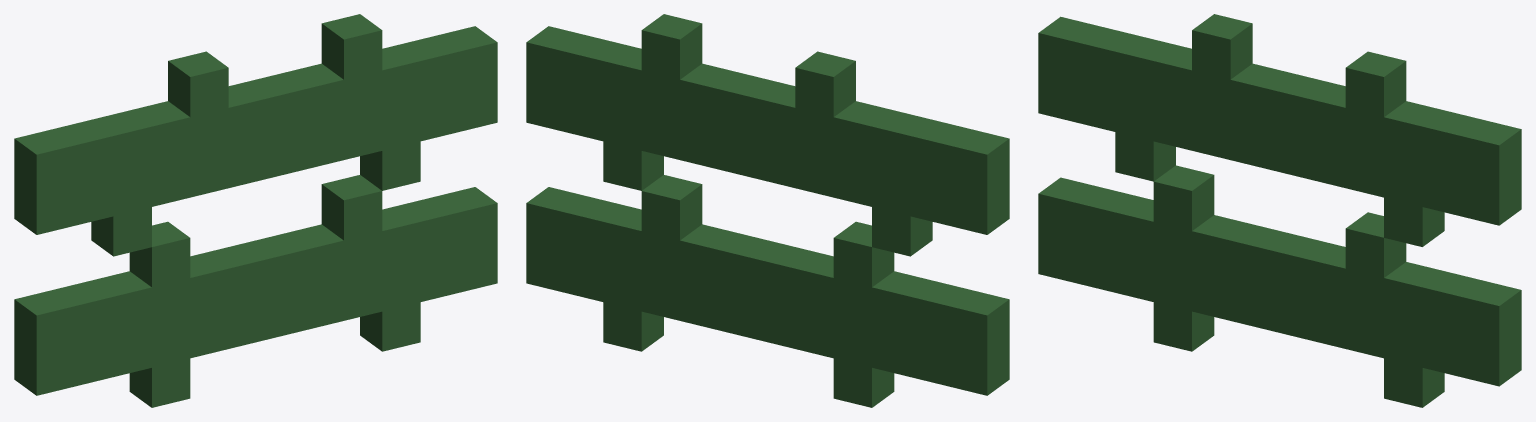
File: MazeGreen2Stairs-2.vox.obj
The picture shows the model from 3 angles, left to right: view 1: azimuth 30°, elevation 25°; view 2: azimuth 150°, elevation 25°; view 3: azimuth 330°, elevation 25°; orthographic projection.
Bounding box in the file's own units: 1.2 × 0.8 × 0.1.
Materials: 1 (1 with a texture image).
